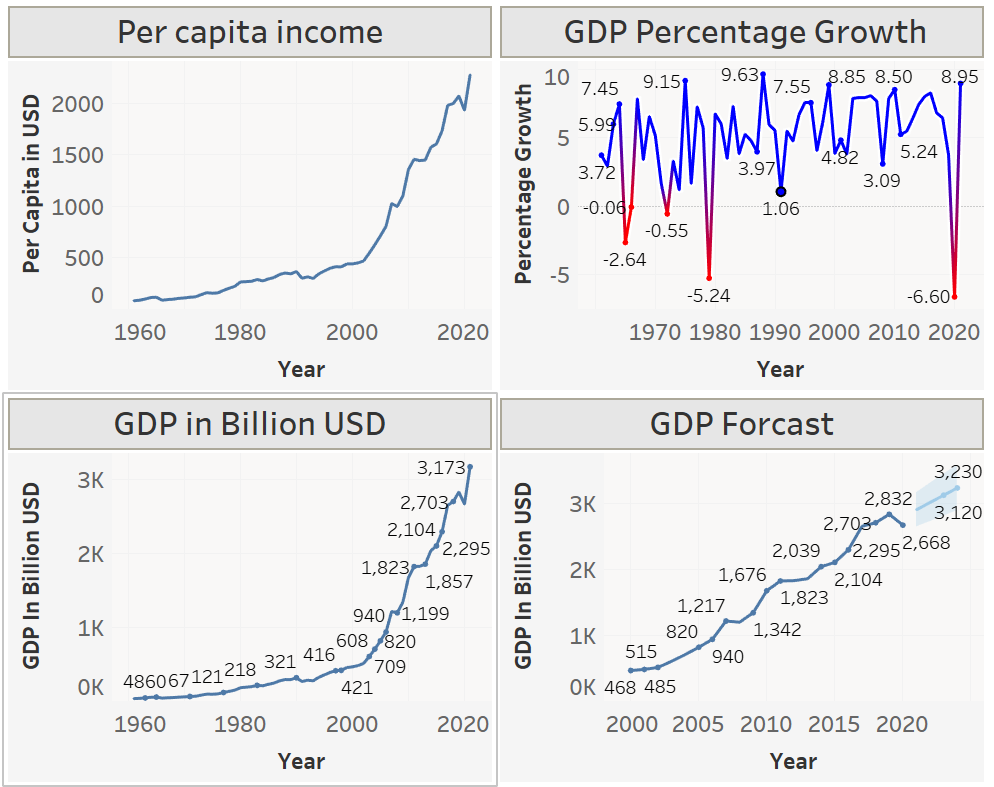

The dashboard page shown, as its layout file describes it:
{"tool":"tableau","page":{"name":"Dashboard 1","canvas":[1000,800],"ordinal":0},"visuals":[{"type":"worksheet","title":"Per capita income","mark":"Automatic","rows":["Per_Capita_in_USD"],"cols":["Year"],"box":[8,8,492,392]},{"type":"worksheet","title":" GDP Percentage Growth","mark":"Automatic","rows":["Percentage_Growth "],"cols":["Year"],"box":[500,8,492,392]},{"type":"worksheet","title":"GDP in Billion USD","mark":"Automatic","rows":["GDP_In_Billion_USD"],"cols":["Year"],"box":[8,400,492,392]},{"type":"worksheet","title":"GDP Forcast","mark":"Automatic","rows":["GDP_In_Billion_USD"],"cols":["Year"],"box":[500,400,492,392]}]}

Visuals, with their boxes in screenshot pixels (x1, y1, x2, y2), scaled from the page's 1000x800 canvas onto the 994x787 screenshot:
"Per capita income" worksheet: l=8, t=8, r=497, b=394
" GDP Percentage Growth" worksheet: l=497, t=8, r=986, b=394
"GDP in Billion USD" worksheet: l=8, t=394, r=497, b=779
"GDP Forcast" worksheet: l=497, t=394, r=986, b=779
